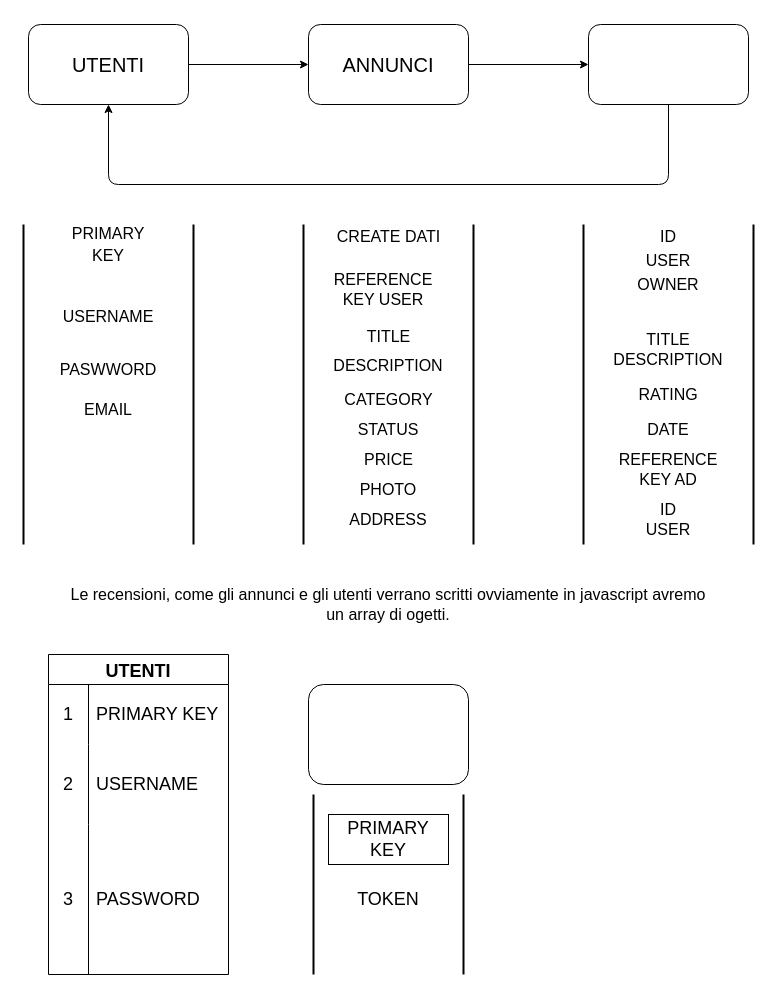
The diagram is 776 pixels wide and 993 high, and some of its shapes have lost their labels. Each missing label, with the box of its shape:
AUTH: (308, 684, 468, 784)
RECENSIONE: (588, 24, 748, 104)
